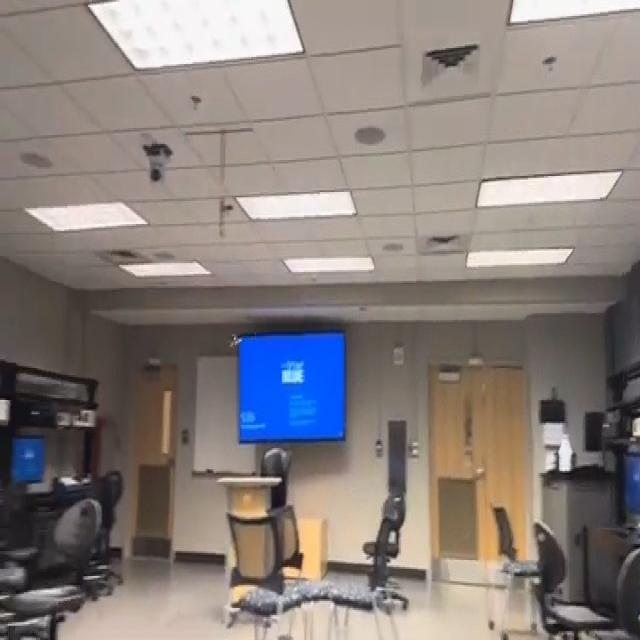drone: (224, 323, 248, 365)
